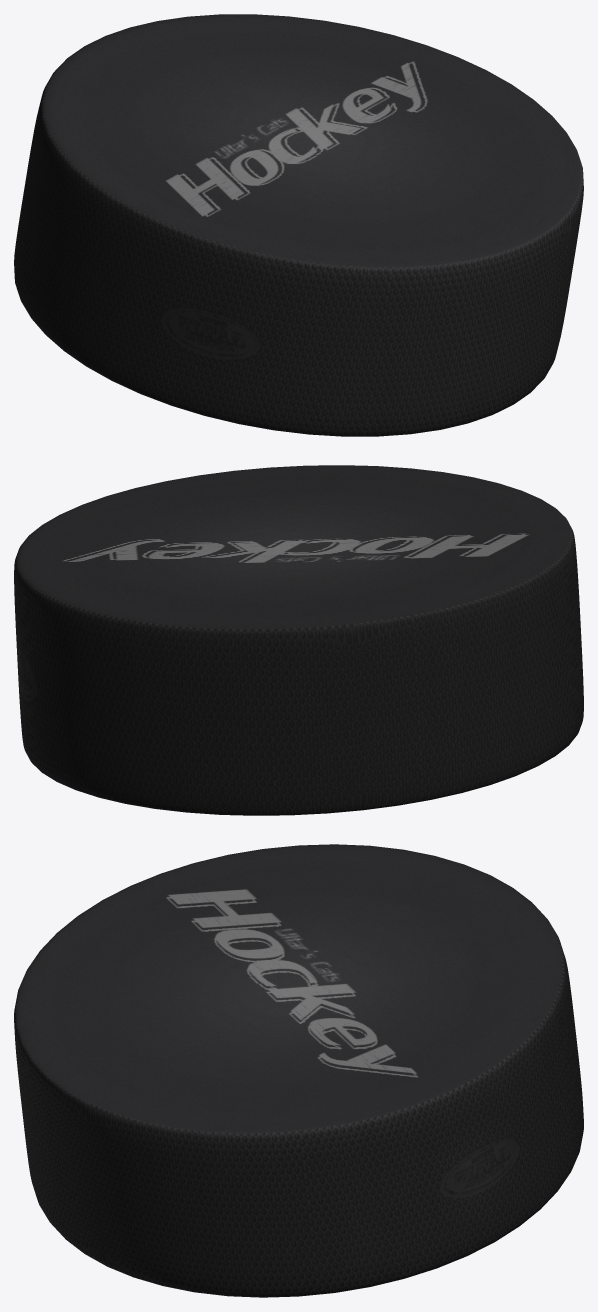
Rendered from puck.fbx.
The picture shows the model from 3 angles, top to bottom: view 1: azimuth 30°, elevation 25°; view 2: azimuth 150°, elevation 25°; view 3: azimuth 270°, elevation 25°; orthographic projection.
Visible parts, largest first — view 1: 10511_Hockey_puck_v1_L3; view 2: 10511_Hockey_puck_v1_L3; view 3: 10511_Hockey_puck_v1_L3.
Part boxes in pixels (x1,y1,x2,y2): 10511_Hockey_puck_v1_L3: [14, 14, 583, 436]; 10511_Hockey_puck_v1_L3: [14, 465, 583, 815]; 10511_Hockey_puck_v1_L3: [14, 844, 583, 1297].
Size of the model in its own units: 746 by 355 by 744.
Materials: 1 (1 with a texture image).
